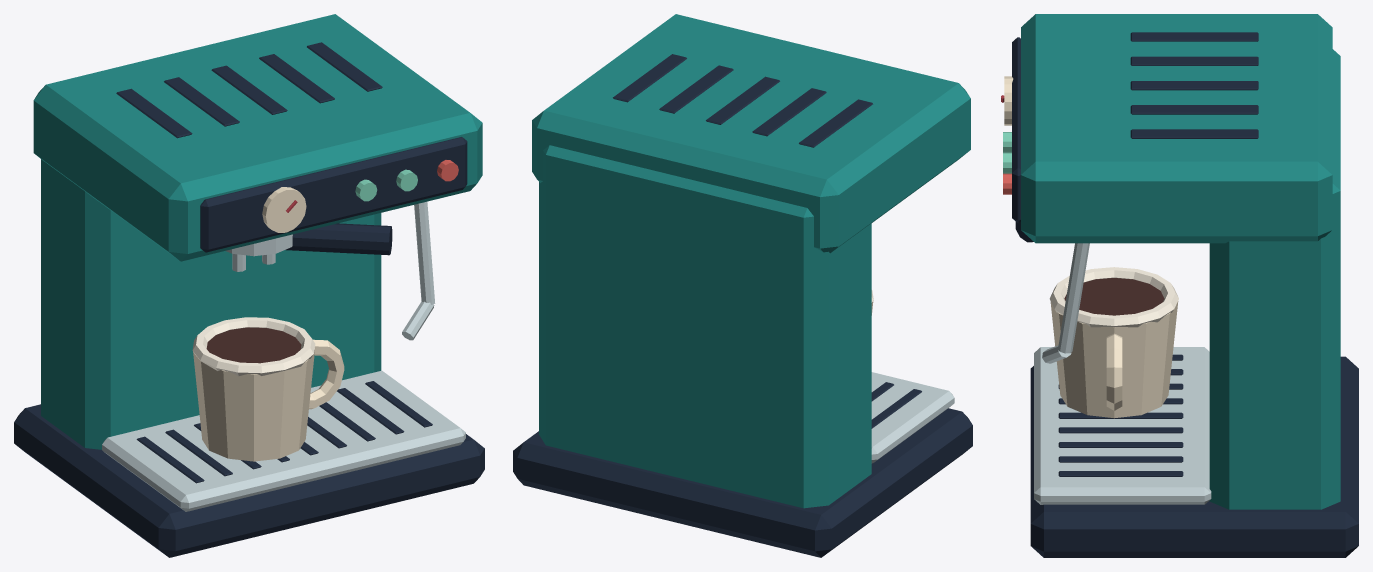
File: Coffee_Machine.glb
3 views of the same model, side by side, from view 1: azimuth 30°, elevation 25°; view 2: azimuth 150°, elevation 25°; view 3: azimuth 270°, elevation 25° (orthographic). The views are drawn at different scales.
Visible parts, largest first — view 1: Coffee_Machine; view 2: Coffee_Machine; view 3: Coffee_Machine.
Part boxes in pixels (<box>): Coffee_Machine: <box>14,14,484,557</box>; Coffee_Machine: <box>513,14,972,557</box>; Coffee_Machine: <box>1001,14,1358,557</box>.
Size of the model in its own units: 2.4 by 2.66 by 2.18.
Materials: 1 (1 with a texture image).
